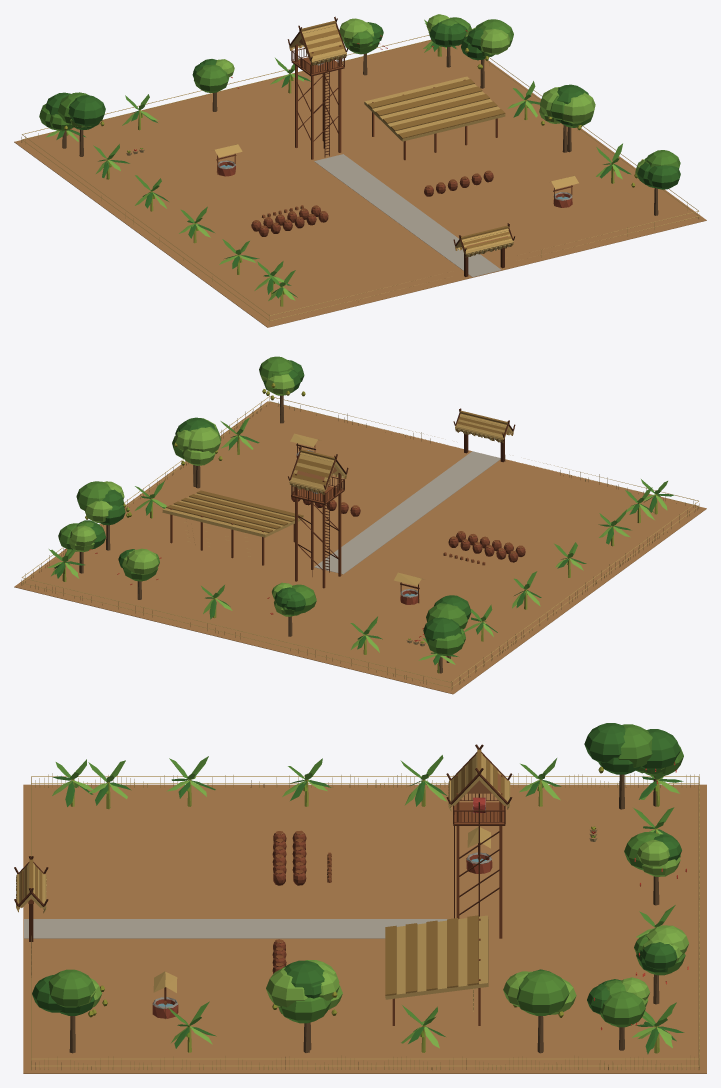
Rendered from fire.glb.
3 renders of one model, top to bottom at view 1: azimuth 30°, elevation 25°; view 2: azimuth 150°, elevation 25°; view 3: azimuth 270°, elevation 25°, orthographic. The views are drawn at different scales.
Visible parts, largest first — view 1: body; view 2: body; view 3: body.
Boxes of the visible parts, box(x1,y1,x2,y2) form: body: box(14, 14, 706, 327); body: box(14, 356, 706, 694); body: box(14, 723, 706, 1073).
Bounding box in the file's own units: 47.9 × 13.43 × 48.56.
